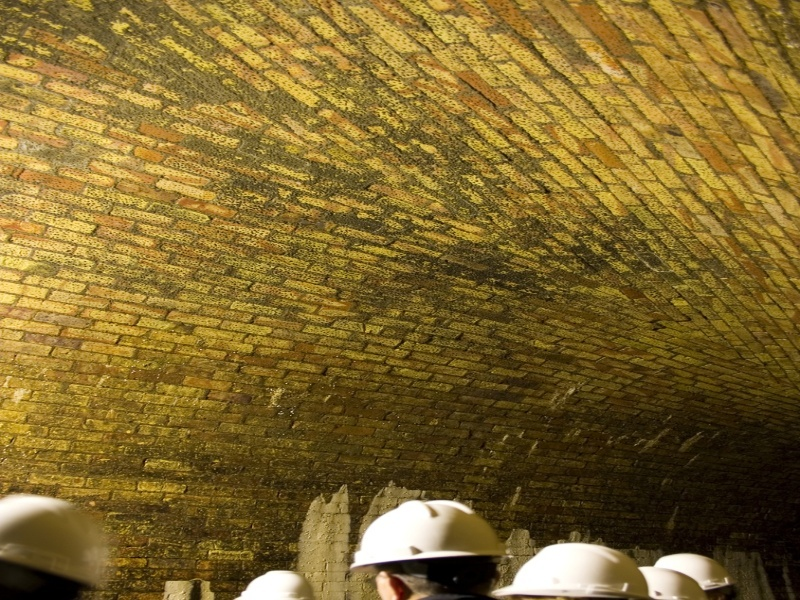baret: (347, 497, 512, 563)
